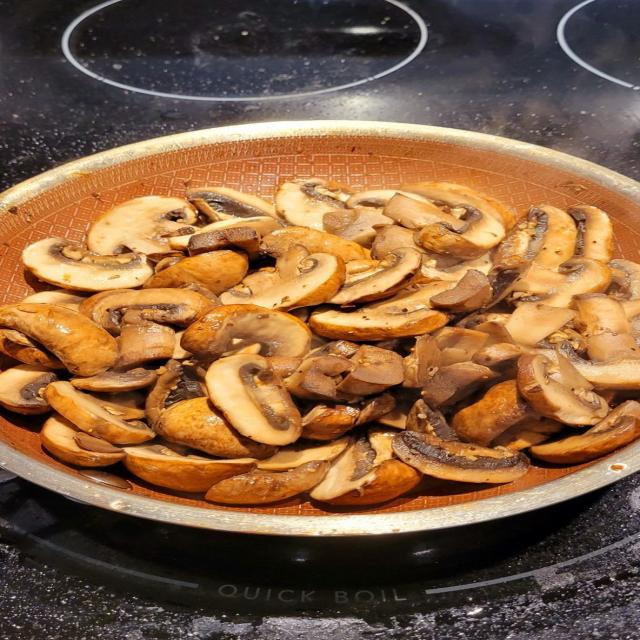champignon mushrooms: (0, 178, 639, 505), (206, 354, 301, 445), (0, 303, 117, 375), (310, 283, 451, 341), (220, 247, 345, 310), (311, 436, 421, 505), (154, 398, 277, 459), (393, 431, 529, 483), (181, 305, 311, 359), (44, 381, 154, 444), (22, 239, 153, 291), (530, 401, 639, 463), (518, 354, 608, 425), (87, 196, 197, 254), (124, 445, 255, 492), (81, 289, 214, 334), (400, 182, 514, 229), (328, 247, 421, 304), (206, 461, 329, 504), (452, 380, 533, 445), (497, 206, 577, 269), (415, 205, 505, 258), (145, 250, 247, 294), (40, 415, 125, 467), (521, 259, 611, 308), (574, 294, 639, 361), (146, 361, 206, 428), (275, 178, 352, 230), (260, 226, 369, 262), (167, 216, 280, 250), (558, 342, 639, 389), (114, 310, 175, 369), (422, 362, 497, 407), (337, 345, 403, 396), (505, 302, 576, 346), (286, 354, 353, 400), (187, 187, 277, 221), (258, 438, 348, 471), (0, 365, 57, 414), (384, 193, 457, 231), (0, 329, 65, 369), (324, 208, 392, 246), (431, 270, 491, 313), (568, 206, 613, 262), (414, 253, 493, 284), (493, 417, 565, 450), (406, 399, 459, 440), (187, 227, 259, 257), (301, 404, 359, 441), (434, 327, 487, 367), (70, 368, 158, 392), (371, 224, 426, 260), (403, 335, 440, 388), (473, 343, 526, 376), (347, 189, 427, 209), (21, 289, 85, 311), (356, 393, 395, 425), (609, 260, 639, 300)
